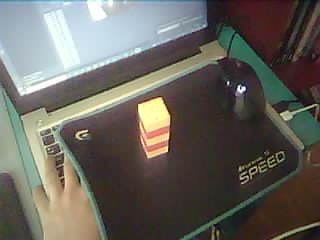lego: (137, 97, 171, 159)
